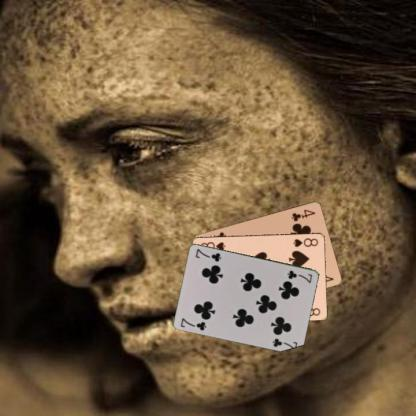4c: (289, 206, 317, 223)
7c: (178, 315, 208, 332), (285, 268, 313, 284)
8s: (291, 235, 319, 248)
